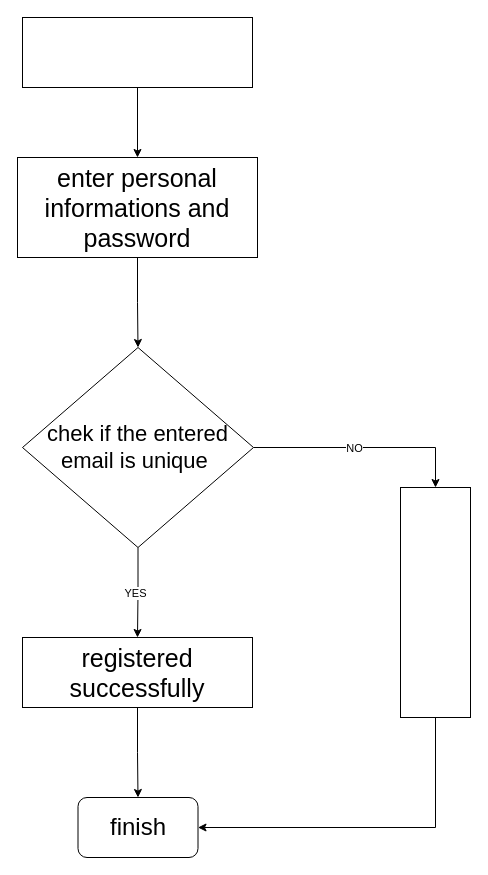
Some shapes in this 488 by 875 pixel diagram are drawn without their labels. The centre of each missing label's shape, as x and y in pixels:
error message desplay: (435,602)
user registration: (137,52)
